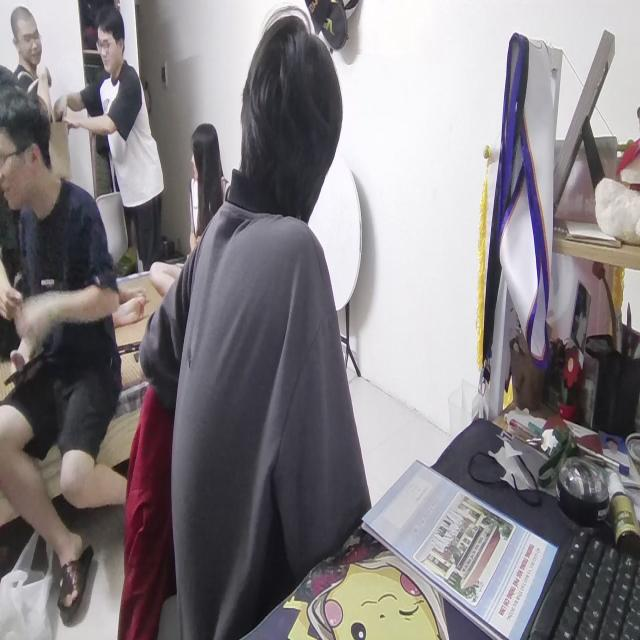book: (359, 448, 562, 640)
extra_person: (0, 92, 129, 621), (60, 18, 168, 270), (181, 118, 231, 253), (9, 2, 49, 108)
student: (140, 12, 368, 636)
